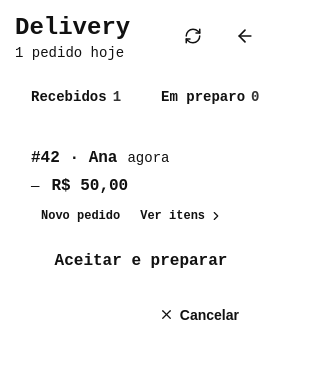
Test: DeliveryModulo, itens do pedido › pedido realmente sem itens continua dizendo que não tem itens
Click the button "#42 · Ana agora — R$ 50,00 Novo pedido Ver itens". click: (141, 188)
box: [31,149,251,227]
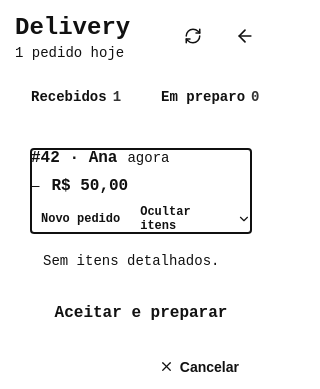
Expected: the text "Sem itens detalhados." is shown, [43,253,239,269]
